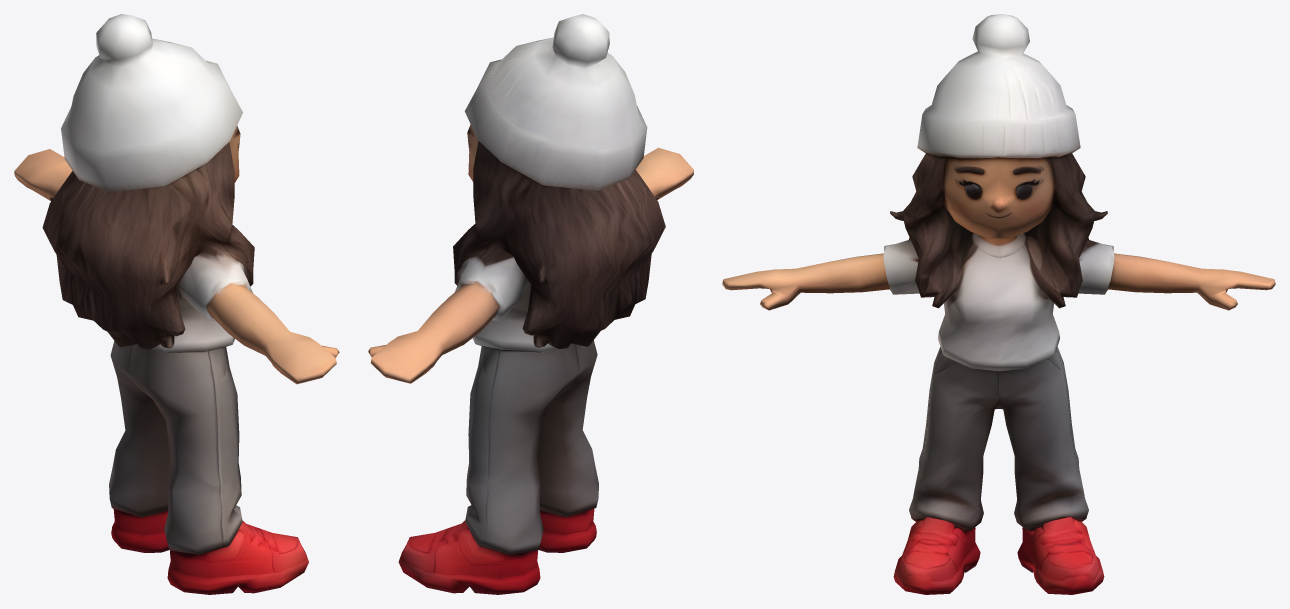
The picture shows the model from 3 angles, left to right: view 1: azimuth 30°, elevation 25°; view 2: azimuth 150°, elevation 25°; view 3: azimuth 270°, elevation 25°; orthographic projection. The views are drawn at different scales.
Visible parts, largest first — view 1: tripo_node_1ea0d933-f967-45e2-ba0b-cecf34c9803e; view 2: tripo_node_1ea0d933-f967-45e2-ba0b-cecf34c9803e; view 3: tripo_node_1ea0d933-f967-45e2-ba0b-cecf34c9803e.
Boxes of the visible parts, x1,y1,x2,y2 form: tripo_node_1ea0d933-f967-45e2-ba0b-cecf34c9803e: (14,14,339,594); tripo_node_1ea0d933-f967-45e2-ba0b-cecf34c9803e: (368,14,693,594); tripo_node_1ea0d933-f967-45e2-ba0b-cecf34c9803e: (722,14,1275,594).
Bounding box in the file's own units: 0.394 × 0.9995 × 0.9614.
1 material, 1 textured.
